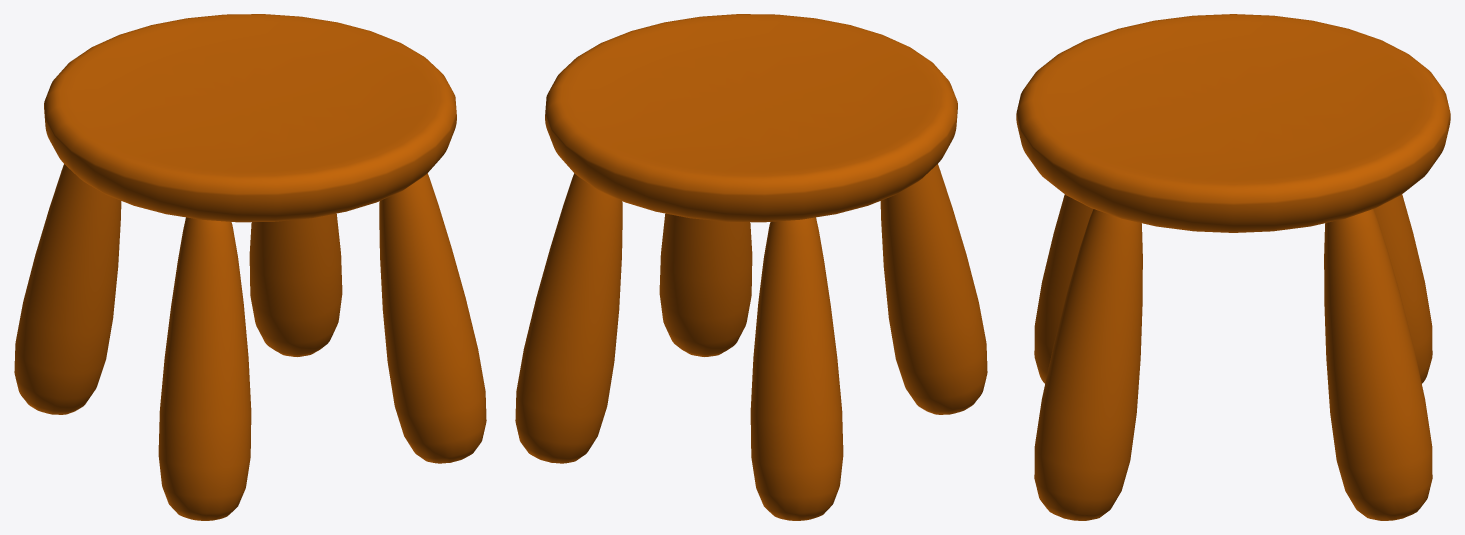
File: tabure.fbx
3 renders of one model, left to right at view 1: azimuth 30°, elevation 25°; view 2: azimuth 150°, elevation 25°; view 3: azimuth 270°, elevation 25°, orthographic. The views are drawn at different scales.
Visible parts, largest first — view 1: Circle; view 2: Circle; view 3: Circle.
Boxes of the visible parts, bbox=[...] form: Circle: bbox=[14, 14, 486, 520]; Circle: bbox=[515, 14, 987, 520]; Circle: bbox=[1016, 14, 1450, 520].
Size of the model in its own units: 208 by 188 by 208.
